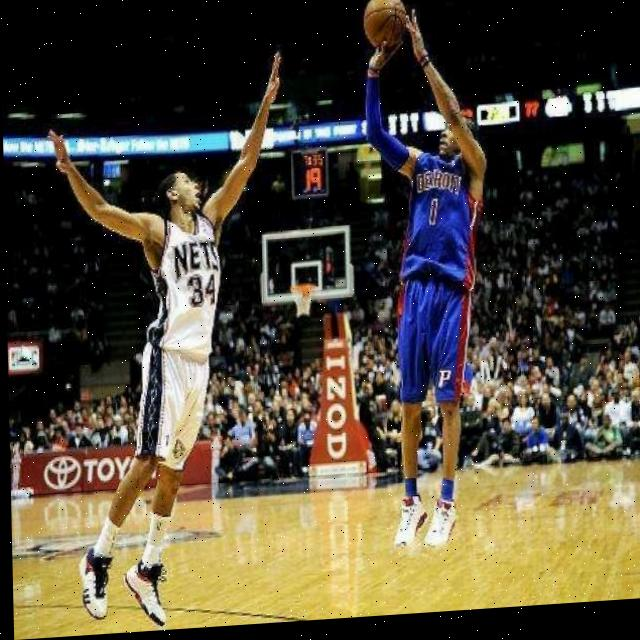basketball: (363, 0, 408, 49)
hoop: (289, 282, 317, 319)
